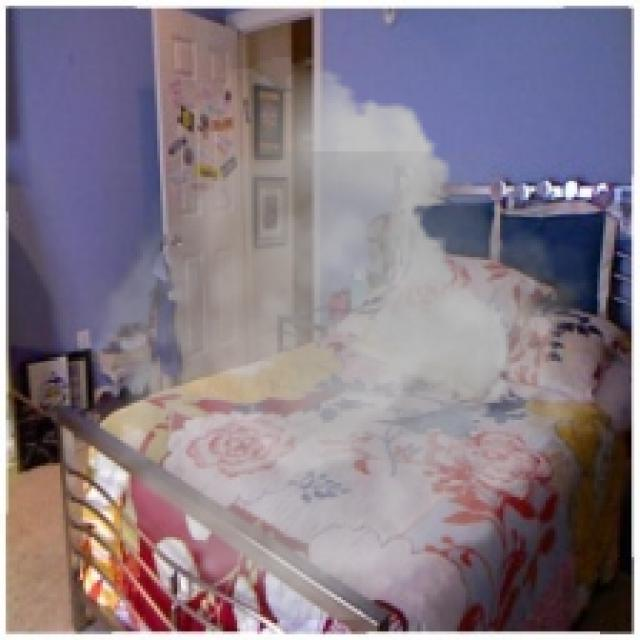smoke: (60, 57, 611, 620)
